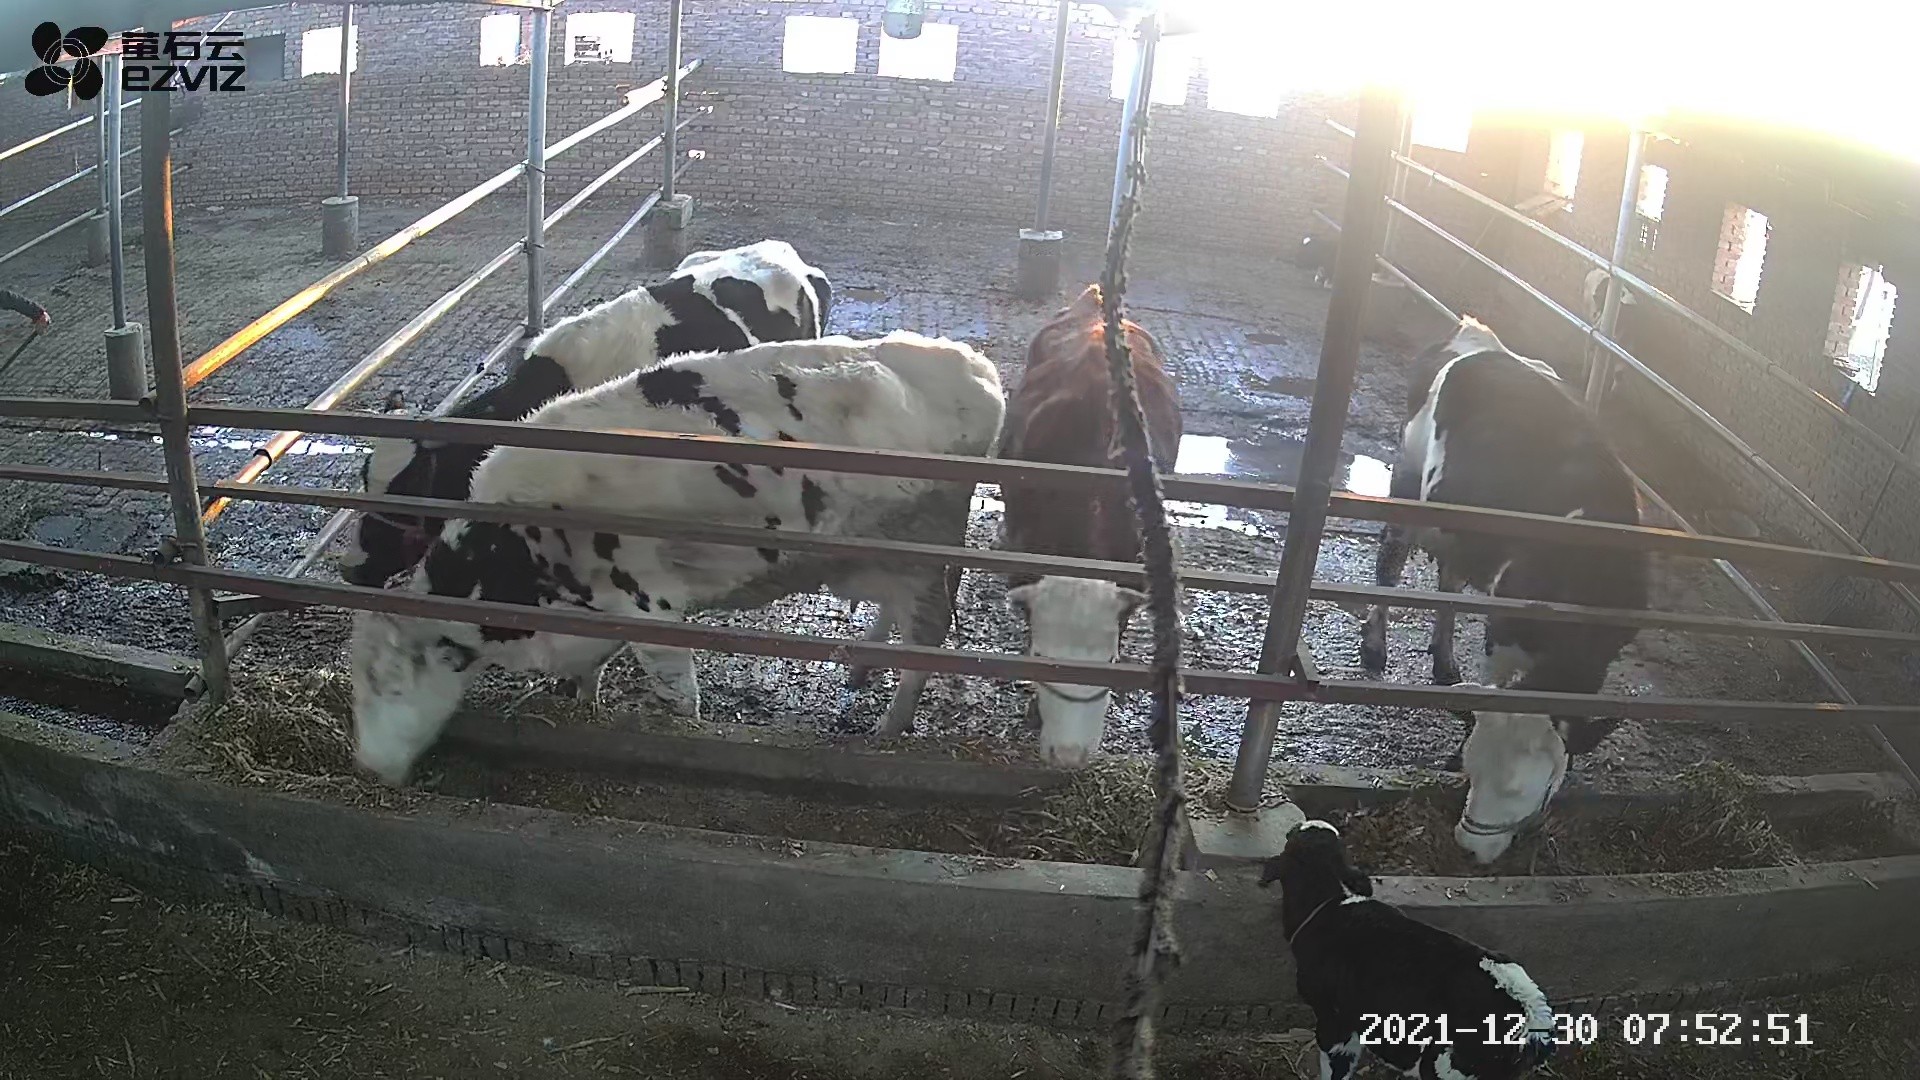cow: (343, 327, 1004, 787), (334, 236, 833, 588), (1358, 313, 1652, 868), (996, 280, 1184, 770)
